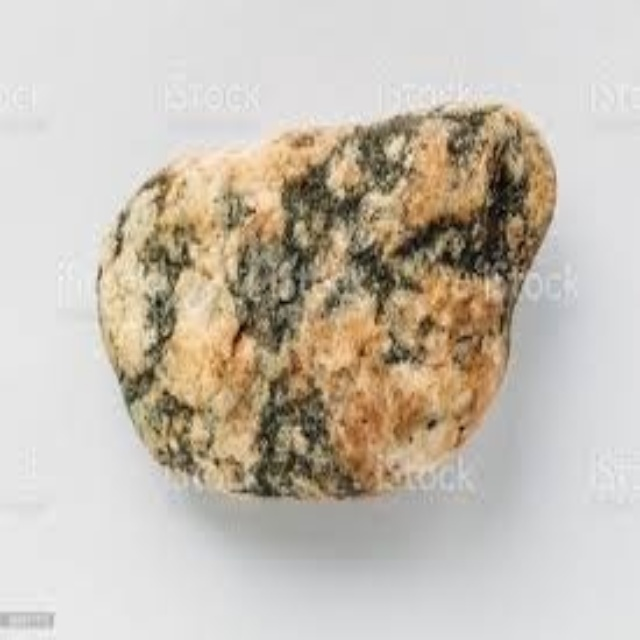obstacle: (98, 105, 554, 497)
